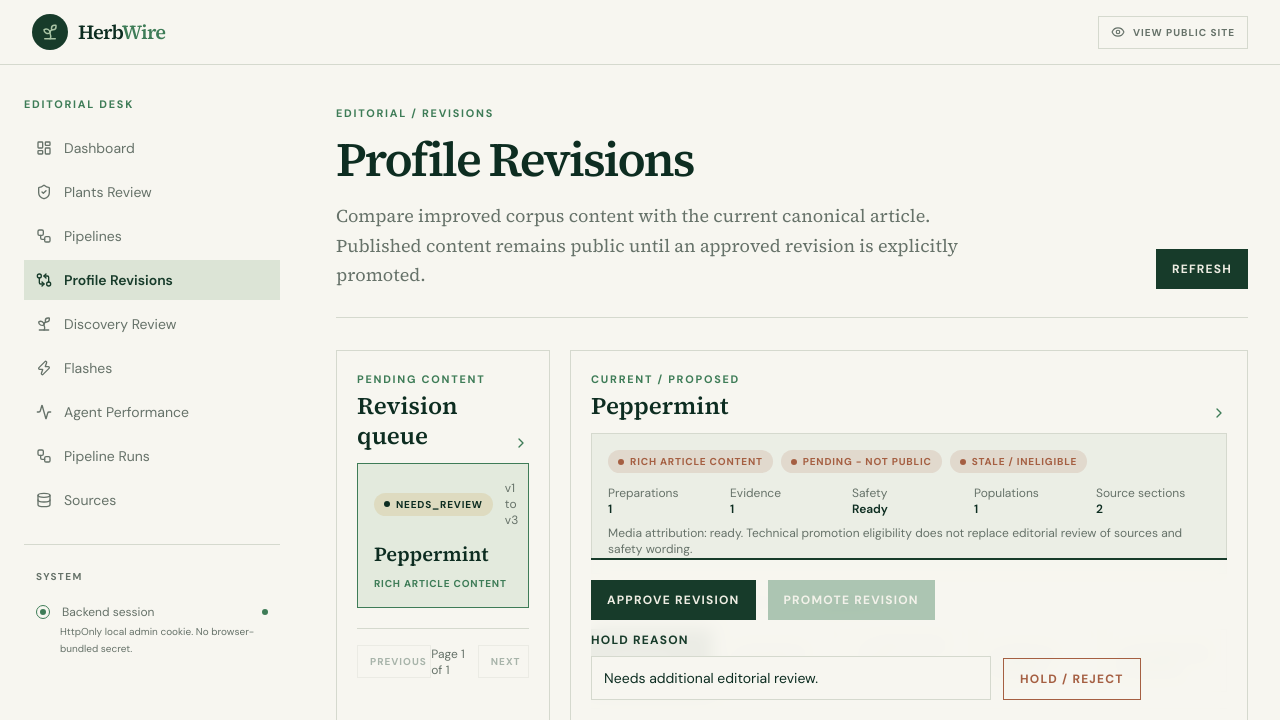
Milestone 2 final UI and functionality › holds a pending revision with an editorial reason
Expected: the heading "Profile Revisions" is shown, [336,126,693,192]
Replace the text in the field labelled "Hold reason" with "Safety citation needs review." at (791, 678), box [591,656,991,700]
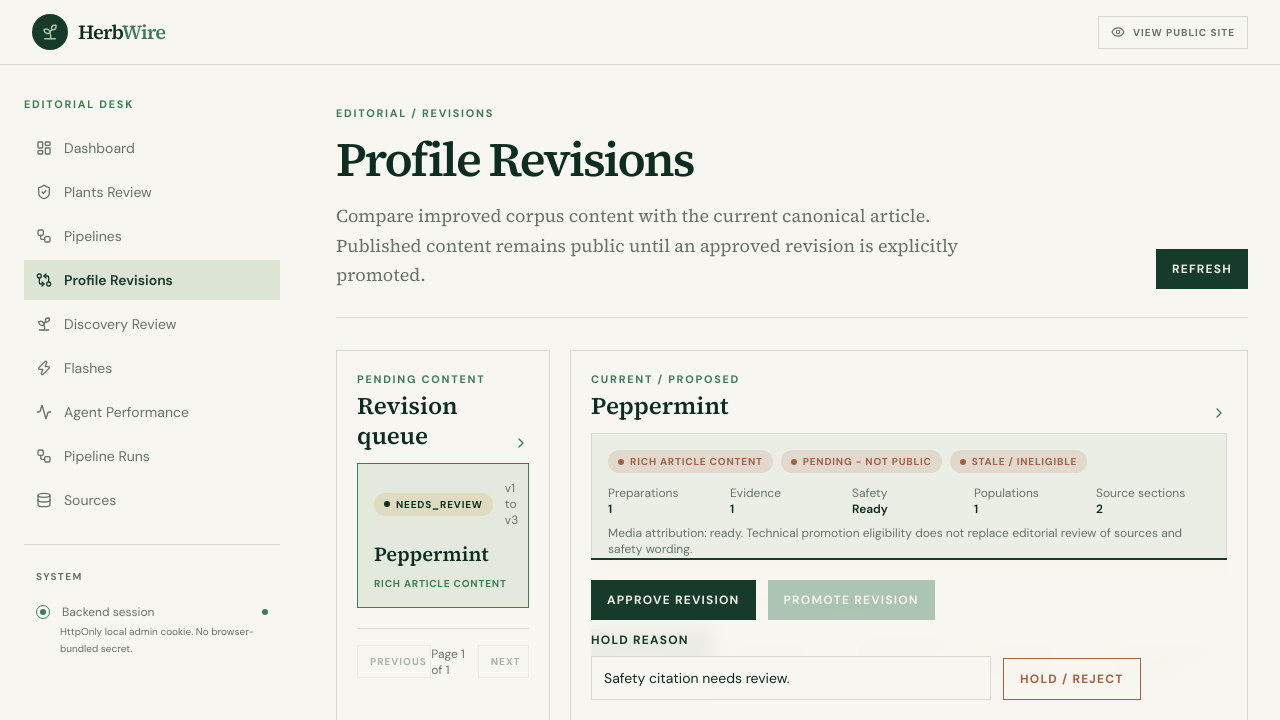
Click the button "Hold / reject".
click(1072, 679)  # box [1003,658,1141,700]
(page scrolled)
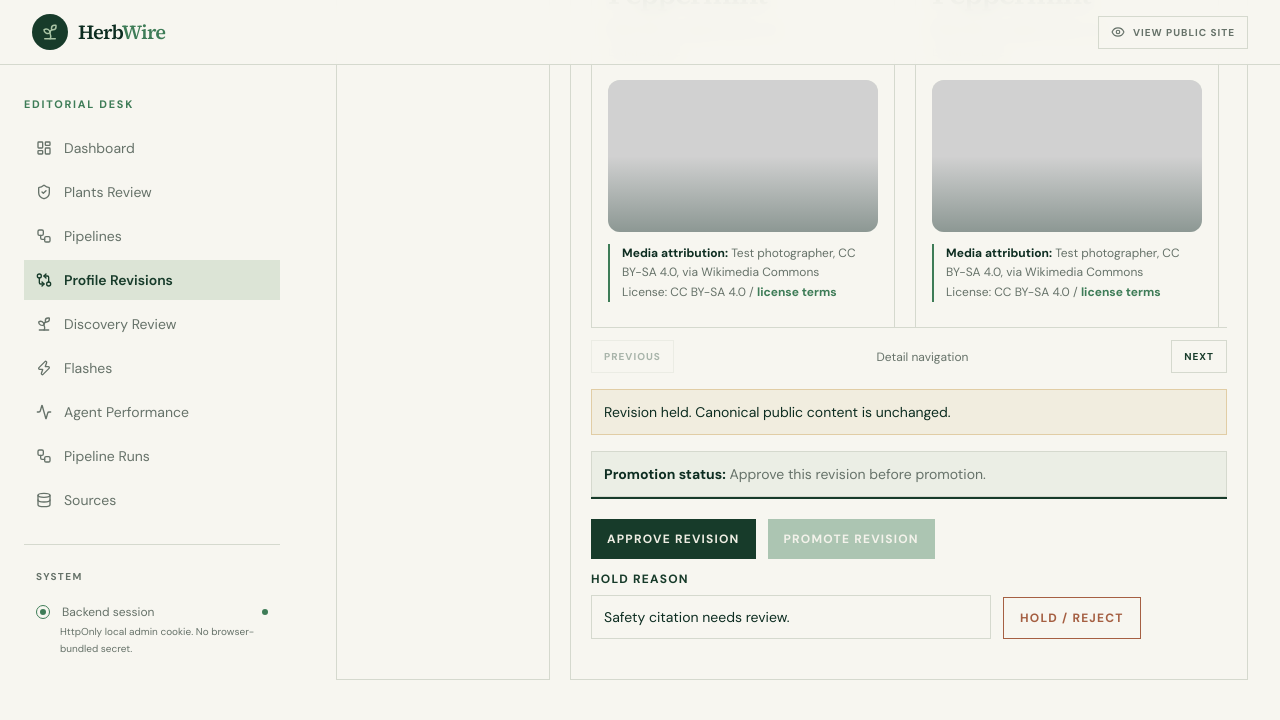
Result: the text "Revision held. Canonical public content is unchanged." is shown at [591,389,1227,435]
